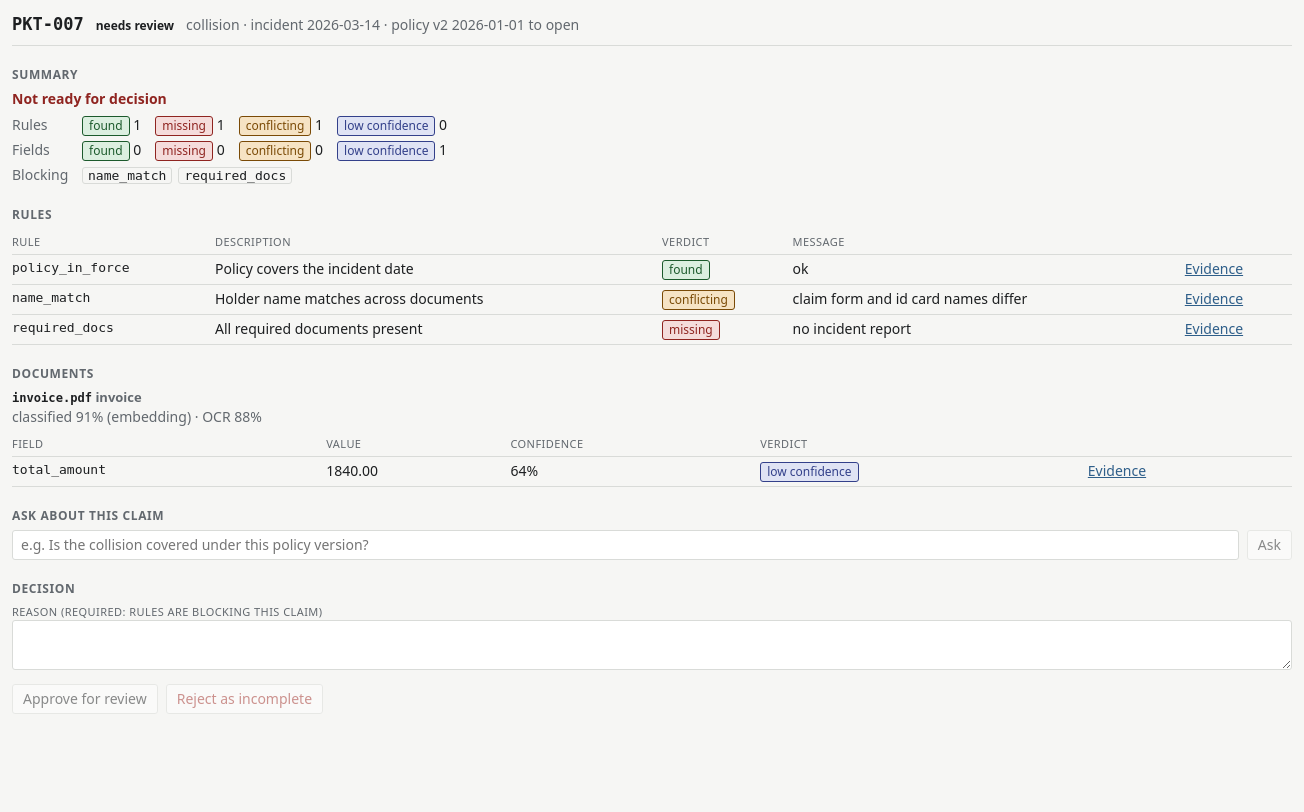
Test: decision › requires a reason to approve when rules are blocking
This screenshot has width=1304, height=812.
expect the button "Approve for review" is disabled: met, box [12,684,158,714]
expect the text "Reason (required: rules are blocking this claim)" is shown: met, box [12,604,322,619]
In the text box labelled "Reason (required: rules are blocking this claim)": (652, 645) [12,620,1292,670], type "checked paper copy"
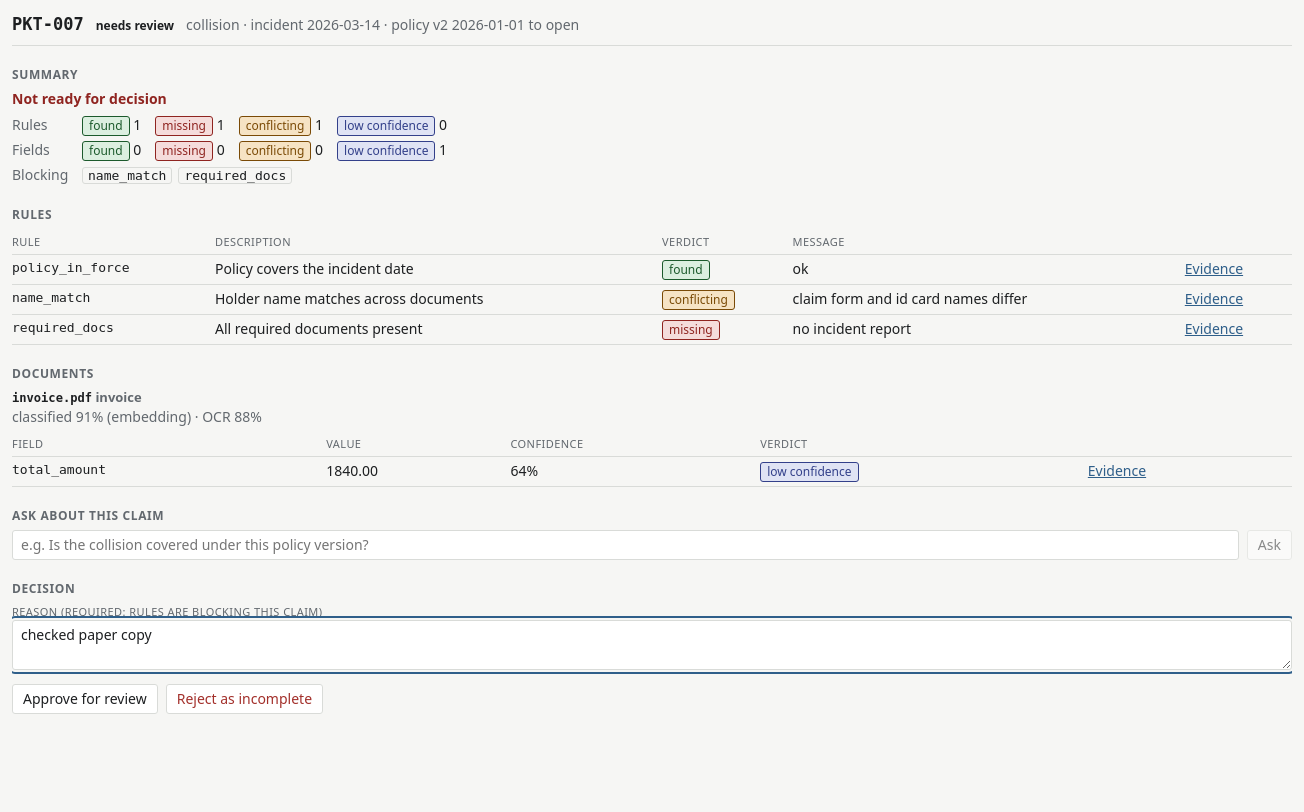
expect the button "Approve for review" is enabled: met, box [12,684,158,714]
